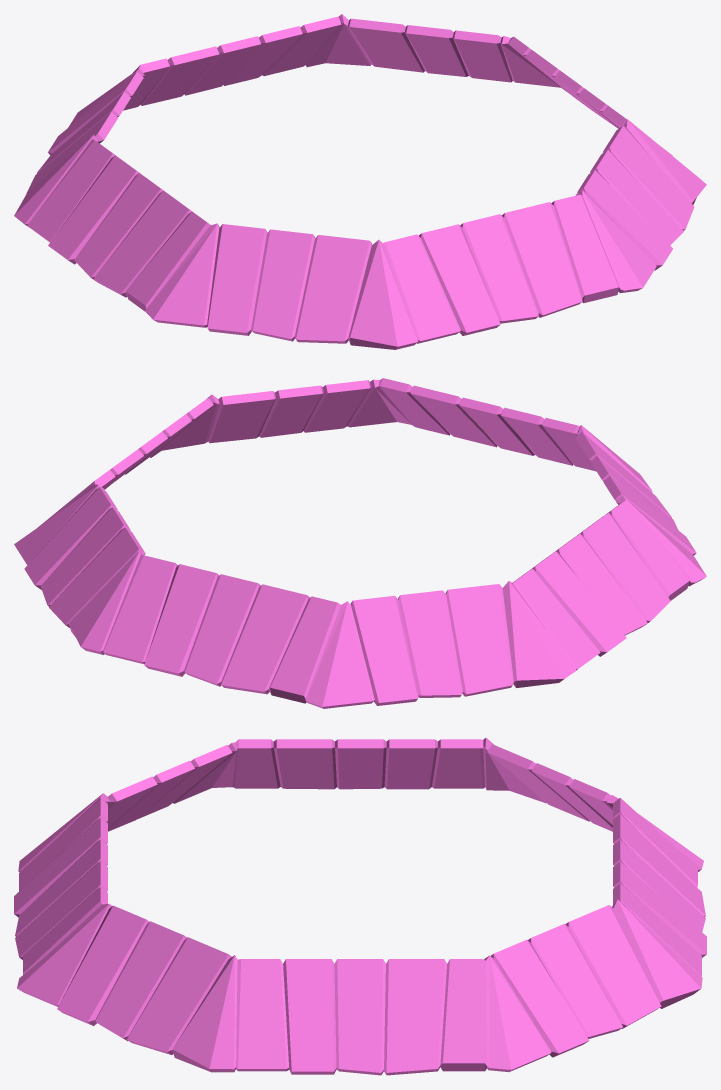
The model's file is SM_Tower_Round_9m_Cover_Fantasy.fbx.
3 renders of one model, top to bottom at view 1: azimuth 30°, elevation 25°; view 2: azimuth 150°, elevation 25°; view 3: azimuth 270°, elevation 25°, orthographic. The views are drawn at different scales.
Visible parts, largest first — view 1: SM_Tower_Round_9m_Cover_Fantasy; view 2: SM_Tower_Round_9m_Cover_Fantasy; view 3: SM_Tower_Round_9m_Cover_Fantasy.
Boxes of the visible parts, box(x1,y1,x2,y2) form: SM_Tower_Round_9m_Cover_Fantasy: box(14, 14, 706, 349); SM_Tower_Round_9m_Cover_Fantasy: box(14, 378, 706, 708); SM_Tower_Round_9m_Cover_Fantasy: box(14, 737, 706, 1075).
Size of the model in its own units: 9.65 by 1.33 by 9.65.
